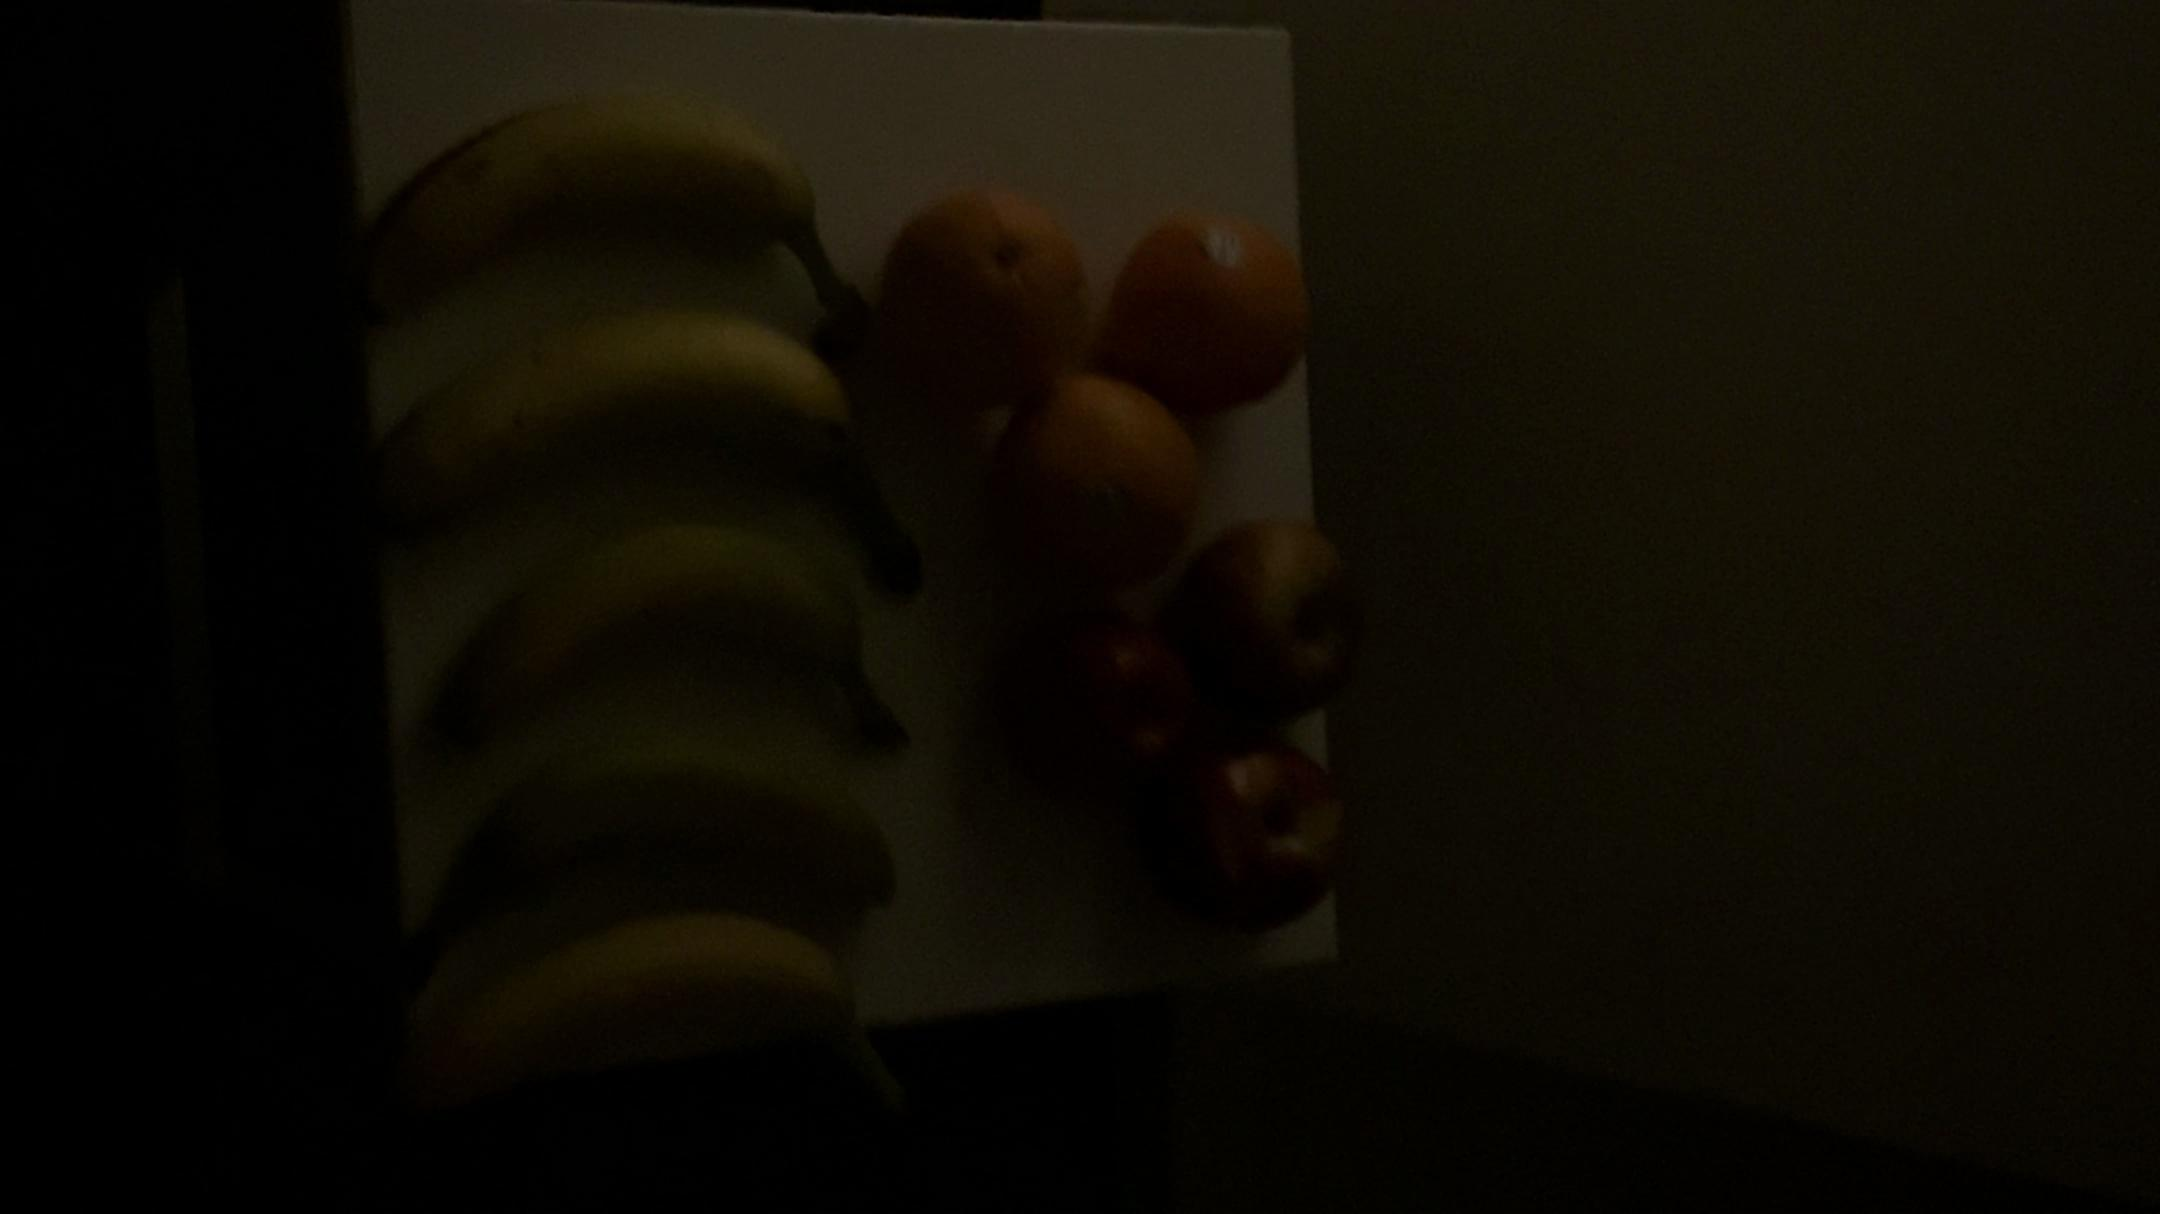apple: (1136, 739, 1360, 932), (1001, 585, 1184, 798), (1205, 515, 1369, 729)
banana: (349, 85, 877, 356), (372, 537, 926, 785), (360, 327, 905, 540), (406, 755, 921, 932), (451, 931, 869, 1072)
orange: (1105, 197, 1320, 417), (984, 377, 1205, 577), (881, 174, 1081, 381)
